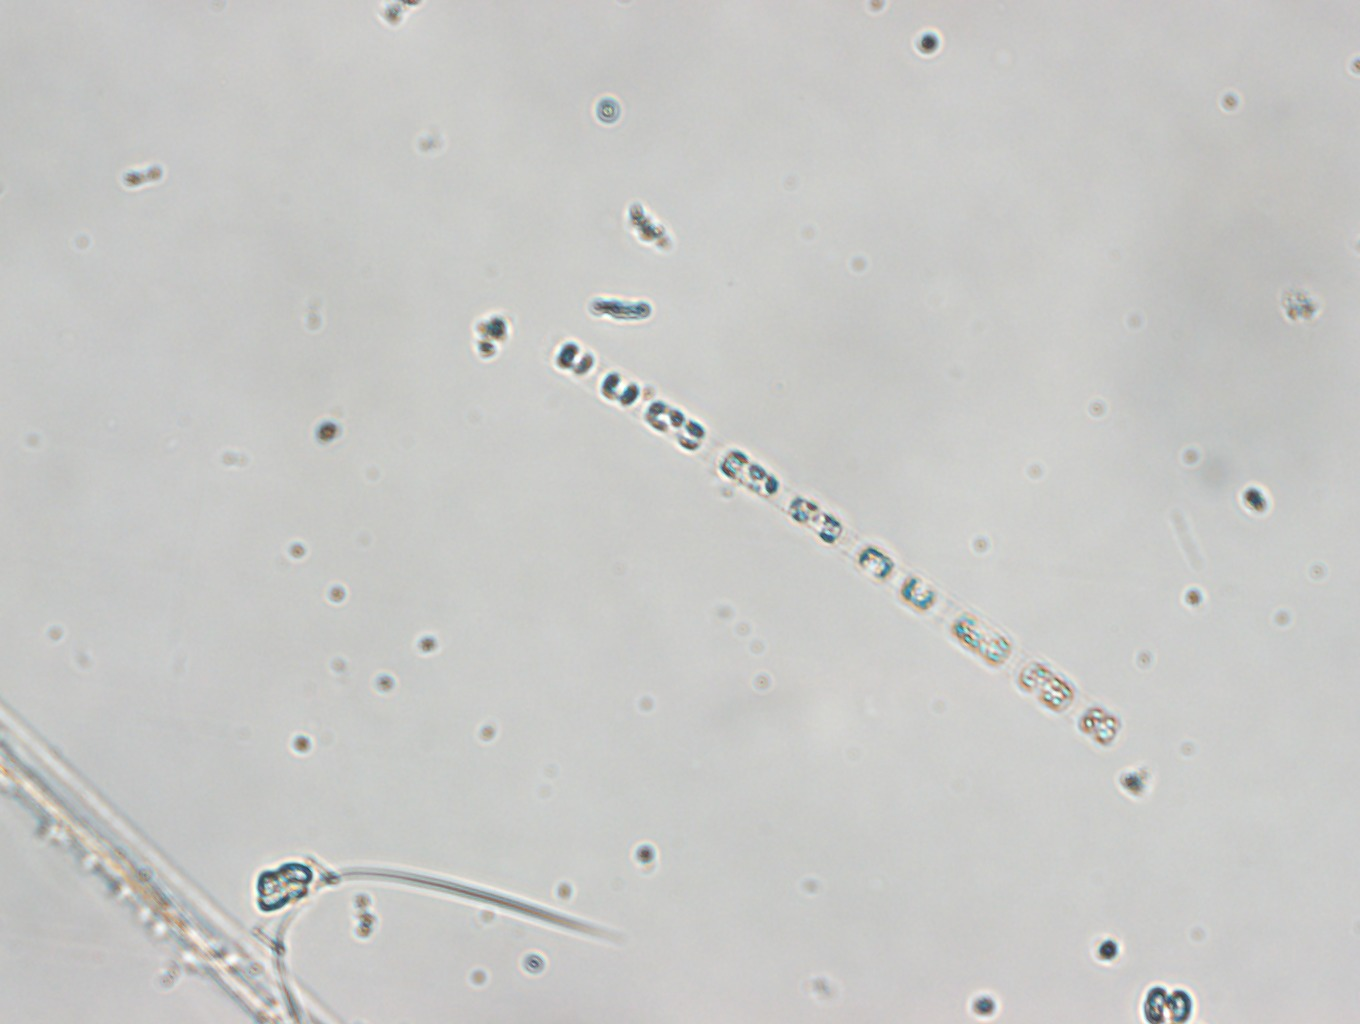skeletonema: (545, 337, 1121, 753)
